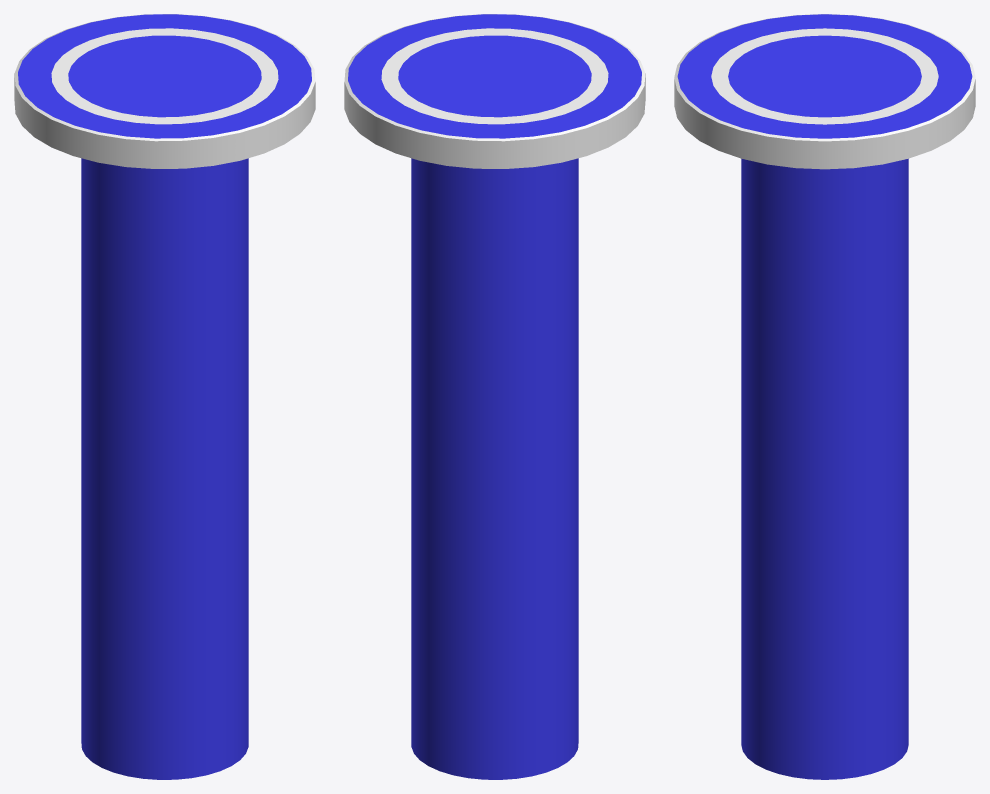
Rendered from o_long.fbx.
3 renders of one model, left to right at view 1: azimuth 30°, elevation 25°; view 2: azimuth 150°, elevation 25°; view 3: azimuth 270°, elevation 25°, orthographic.
Visible parts, largest first — view 1: O-pipe-long, Cylinder.003; view 2: O-pipe-long, Cylinder.003; view 3: O-pipe-long, Cylinder.003.
Part boxes in pixels (left/top/right/bottom): O-pipe-long: left=81, top=158, right=248, bottom=779; Cylinder.003: left=14, top=14, right=315, bottom=168; O-pipe-long: left=411, top=158, right=578, bottom=779; Cylinder.003: left=344, top=14, right=645, bottom=168; O-pipe-long: left=741, top=158, right=908, bottom=779; Cylinder.003: left=674, top=14, right=975, bottom=169.
Bounding box in the file's own units: 90 × 220 × 90.
